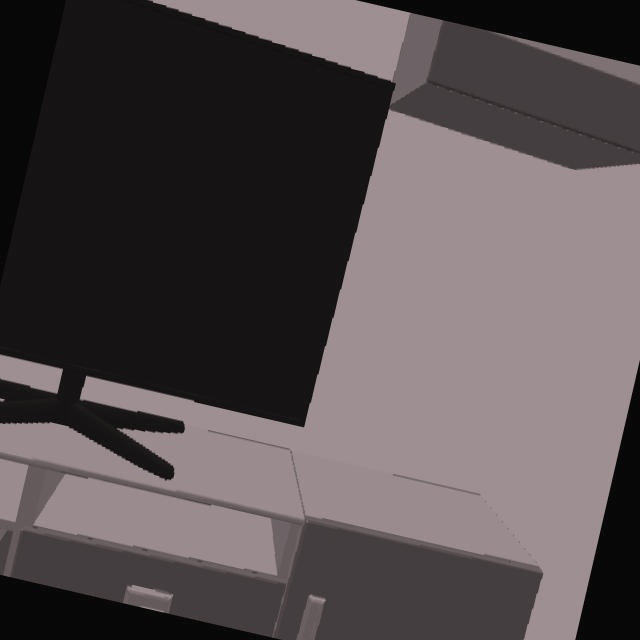cabinet: (0, 422, 544, 640), (390, 12, 640, 172)
